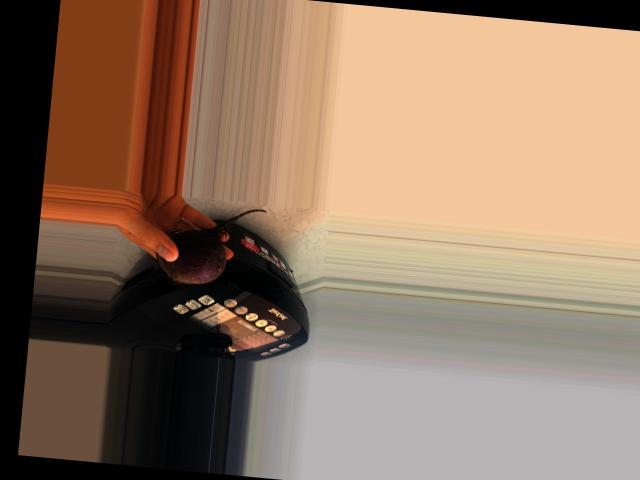beet: (154, 200, 266, 293)
